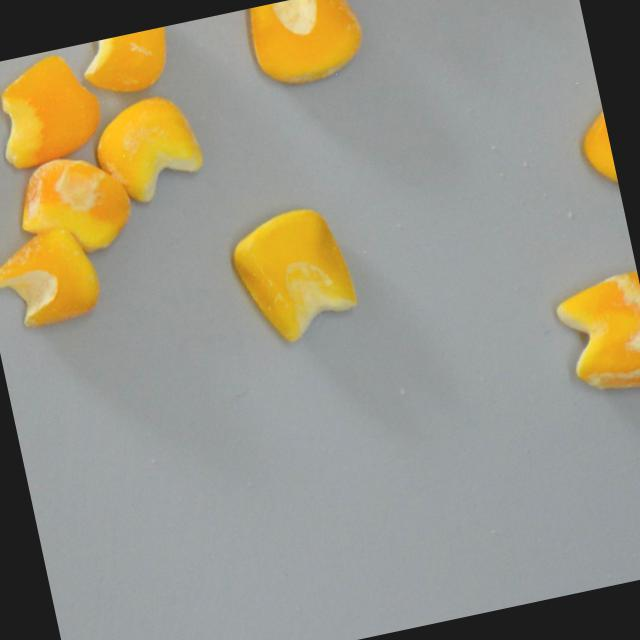no_canjicado: (226, 198, 365, 350), (0, 48, 109, 171), (245, 0, 371, 91), (77, 26, 176, 100), (573, 94, 621, 201)
pelicula: (85, 86, 211, 209), (12, 145, 140, 264), (0, 221, 105, 335), (551, 268, 640, 401)
